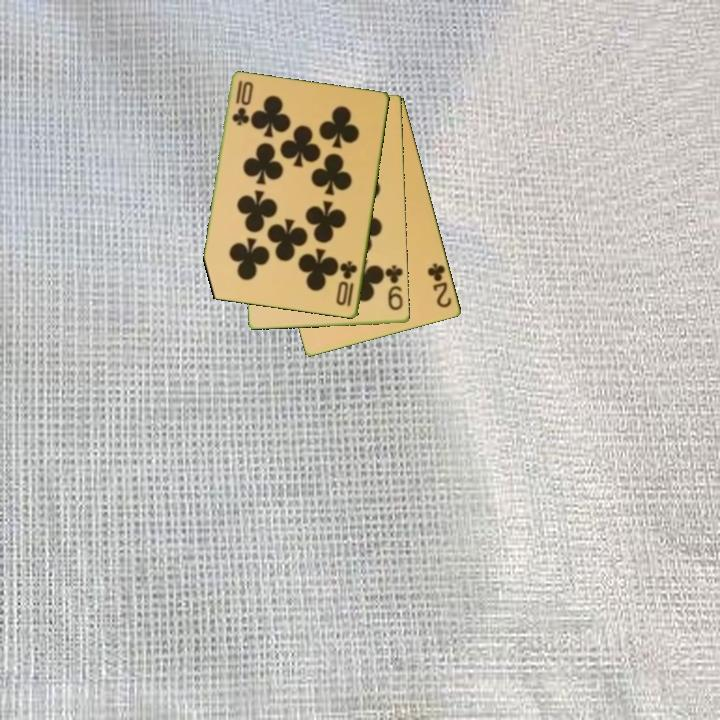10c: (333, 258, 360, 310), (229, 77, 255, 129)
2c: (424, 259, 455, 311)
9c: (382, 262, 406, 313)
